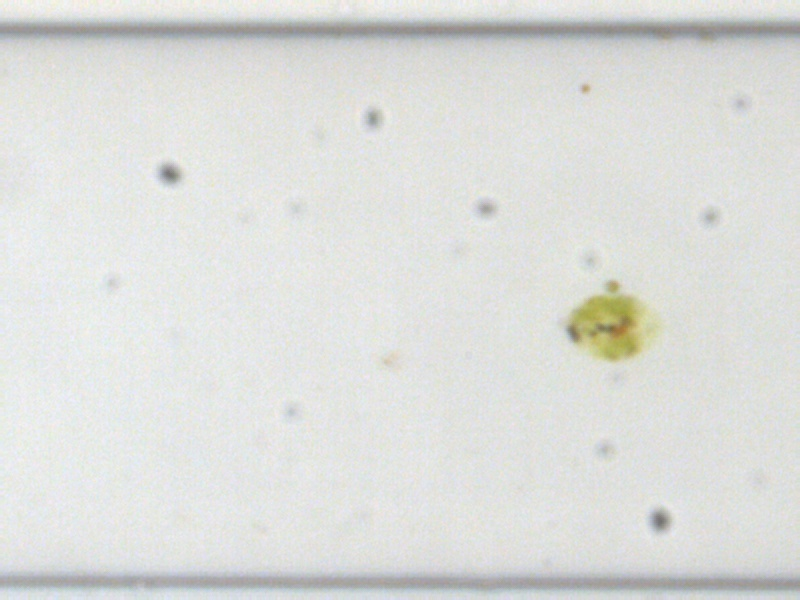Chlorella: (602, 274, 620, 293), (576, 81, 590, 94)
Haematococcus: (560, 288, 660, 365)
